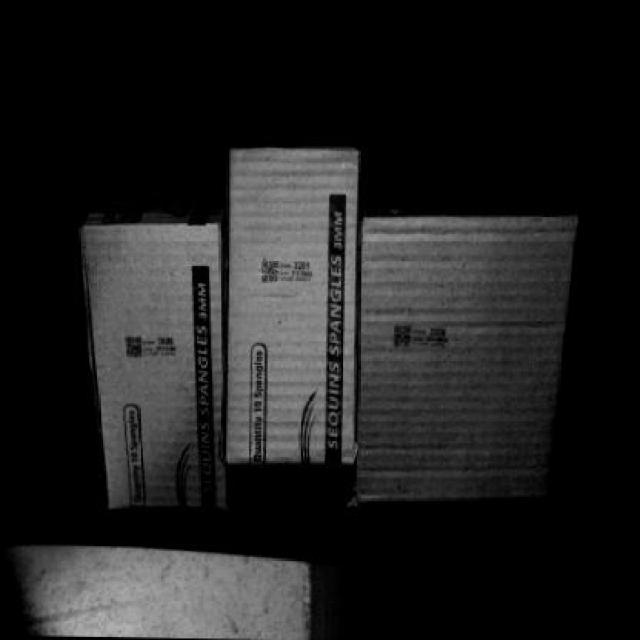box: (367, 214, 570, 514), (81, 222, 234, 510), (230, 148, 368, 458)
